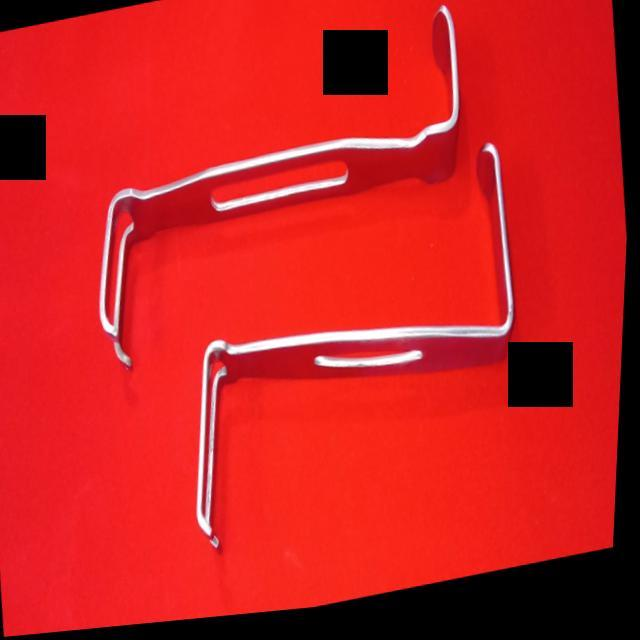Czerny Retractor: (160, 142, 546, 578), (69, 0, 490, 389)
